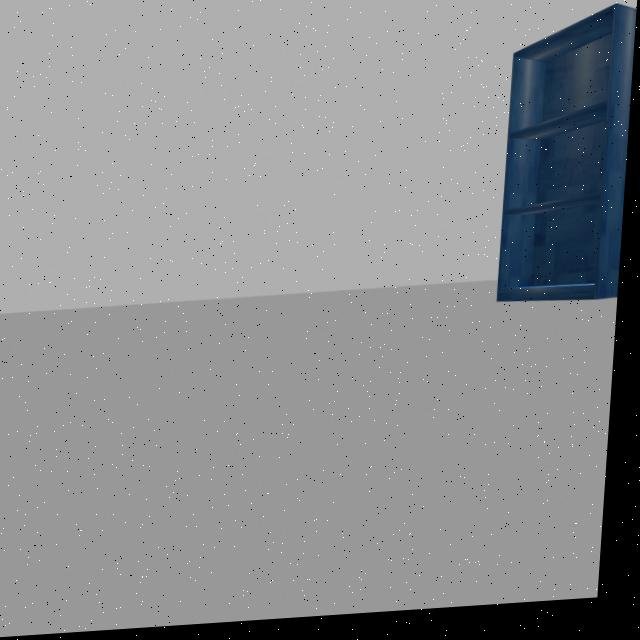shelf: (489, 0, 638, 326)
